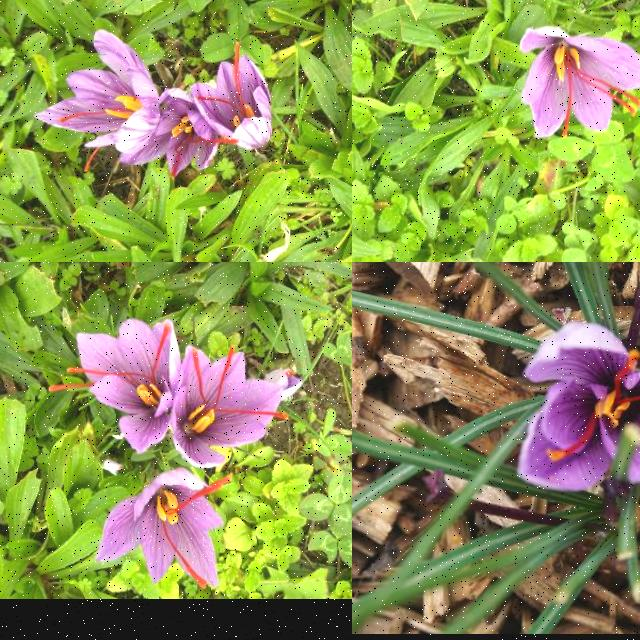flower: (516, 322, 640, 490), (49, 319, 181, 467), (96, 468, 234, 590), (171, 346, 289, 468), (520, 26, 640, 137), (266, 368, 304, 399)
overlap: (34, 30, 272, 178)
